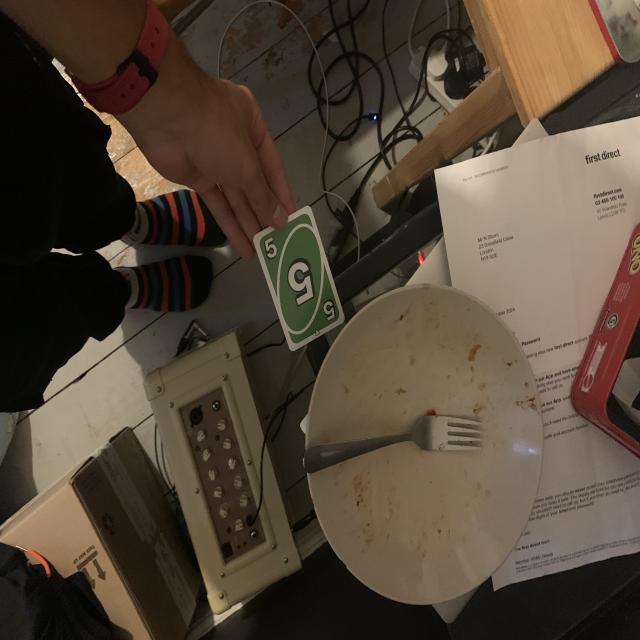lgreen-5: (261, 237, 280, 260)
